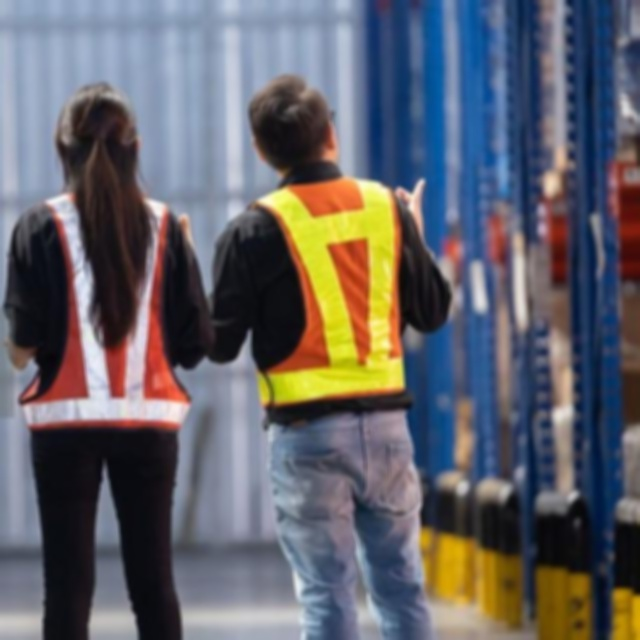Con_Chaleco: (23, 188, 188, 432), (247, 175, 404, 411)
Sin_Casco_Mascarrilla: (53, 81, 142, 187), (251, 72, 341, 176)
